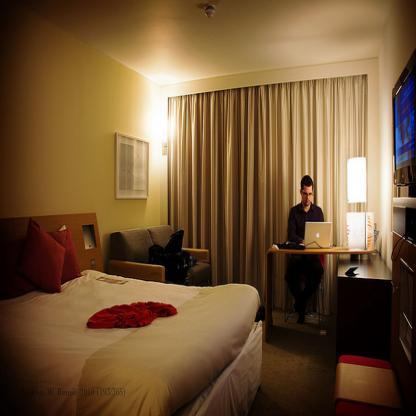suitcase: (148, 230, 190, 285)
